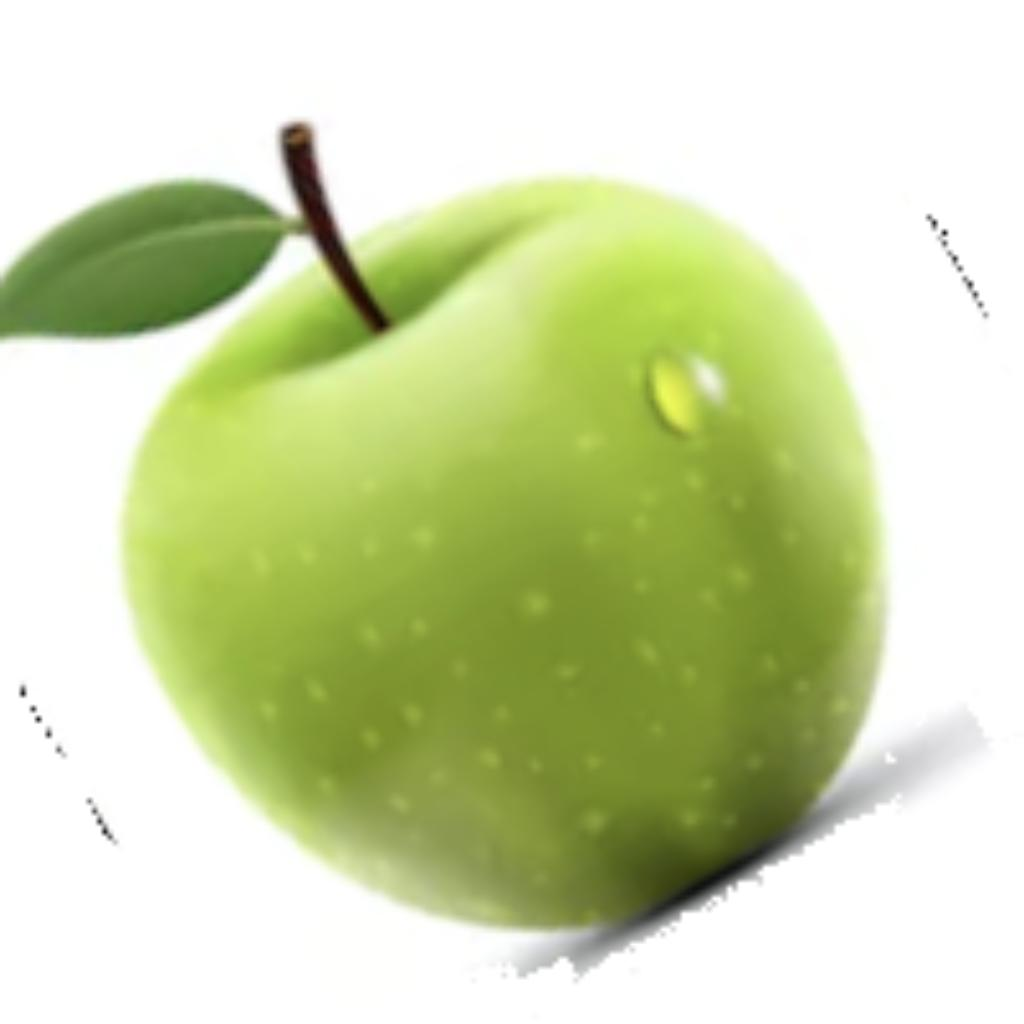apple: (113, 113, 993, 983)
